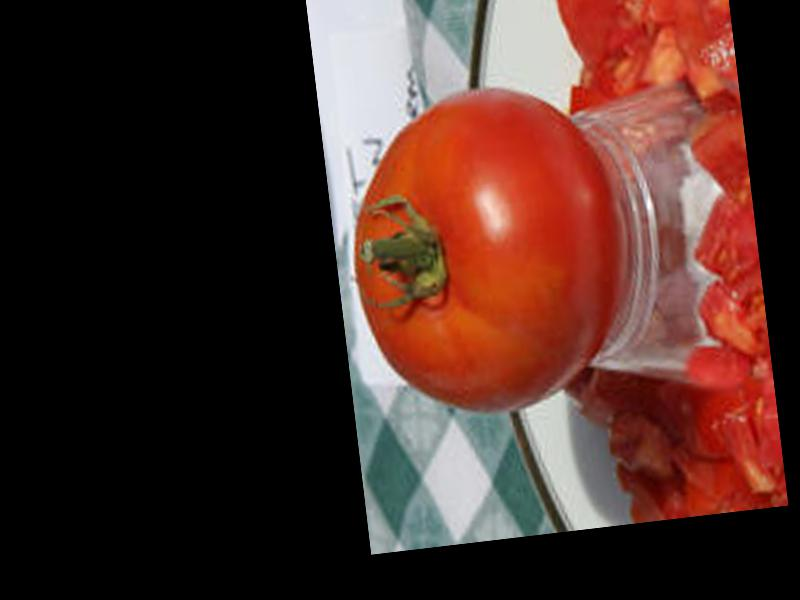Tomato: (332, 72, 638, 428)
